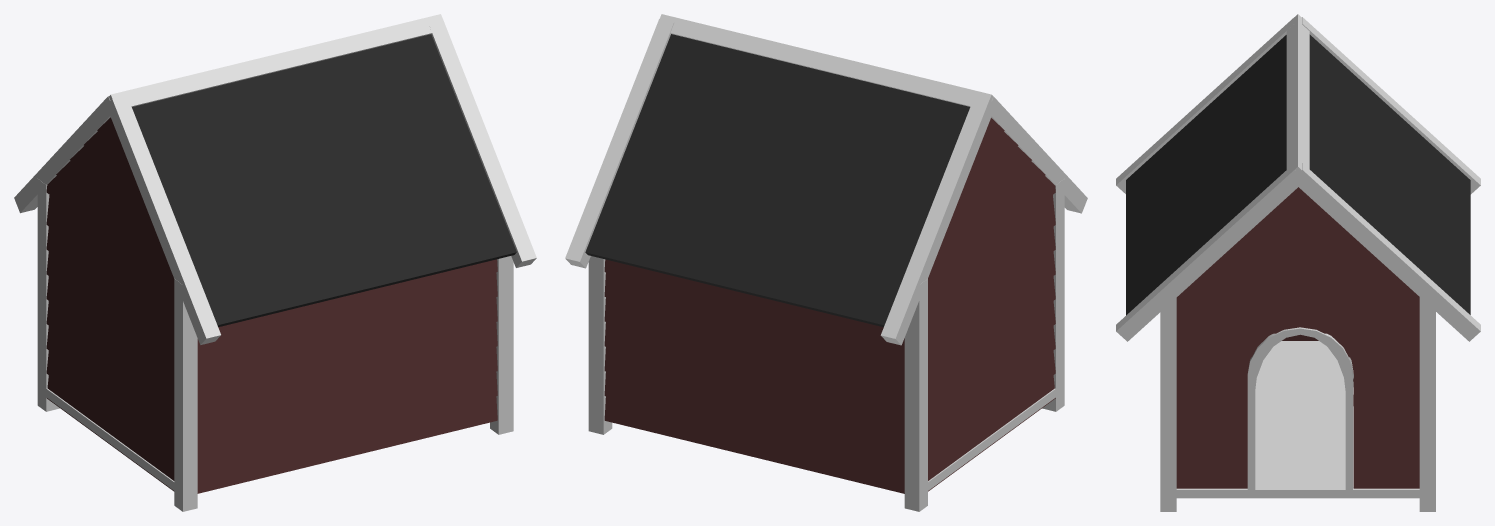
The model's file is DogHouse.fbx.
3 renders of one model, left to right at view 1: azimuth 30°, elevation 25°; view 2: azimuth 150°, elevation 25°; view 3: azimuth 270°, elevation 25°, orthographic. The views are drawn at different scales.
Visible parts, largest first — view 1: pCube74, polySurface24, pCube6, pCube10, pCube8, pCube9, pCube7, pCube11, pCube57, pCube51, pCube3, pCube68 (+10 smaller); view 2: pCube75, polySurface24, pCube14, pCube18, pCube17, pCube16, pCube15, pCube19, pCube62, pCube51, pCube4, pCube73 (+10 smaller); view 3: pCube75, pCube74, pCube5, polySurface1, polySurface40, pCube68, pCube73, polySurface41, polySurface3, pCube1, pCube2, polySurface20 (+15 smaller).
Part boxes in pixels (x1,y1,x2,y2): pCube74: (132,34,516,326); polySurface24: (46,226,174,491); pCube6: (197,396,497,493); pCube10: (197,297,497,394); pCube8: (197,371,497,468); pCube9: (197,322,497,419); pCube7: (197,347,497,443); pCube11: (197,272,497,369); pCube57: (106,95,220,344); pCube51: (109,14,442,106); pCube3: (174,279,197,511); pCube68: (428,18,536,267); pCube75: (585,34,970,327); polySurface24: (928,226,1055,491); pCube14: (604,396,904,493); pCube18: (604,297,904,394); pCube17: (604,322,904,419); pCube16: (604,371,904,468); pCube15: (604,347,904,444); pCube19: (604,272,904,369); pCube62: (880,96,995,345); pCube51: (659,14,993,106); pCube4: (904,279,927,511); pCube73: (565,19,673,268); pCube75: (1309,34,1470,314); pCube74: (1126,35,1286,315); pCube5: (1255,341,1353,487); polySurface1: (1176,302,1419,333); polySurface40: (1176,278,1419,301); pCube68: (1116,163,1305,341); pCube73: (1291,163,1480,341); polySurface41: (1198,255,1398,278); polySurface3: (1176,333,1419,357); pCube1: (1160,297,1176,511); pCube2: (1419,297,1435,511); polySurface20: (1176,372,1419,406).
Bounding box in the file's own units: 4.19 × 4.41 × 4.22.
